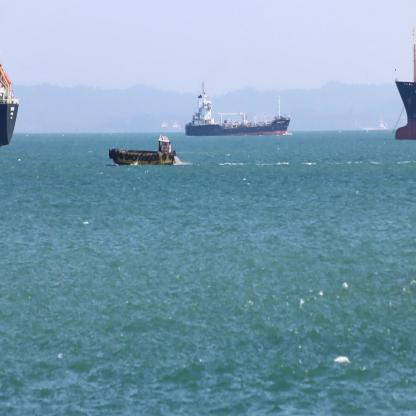Container Ship: (185, 79, 291, 138), (395, 28, 415, 143), (0, 65, 20, 148)
